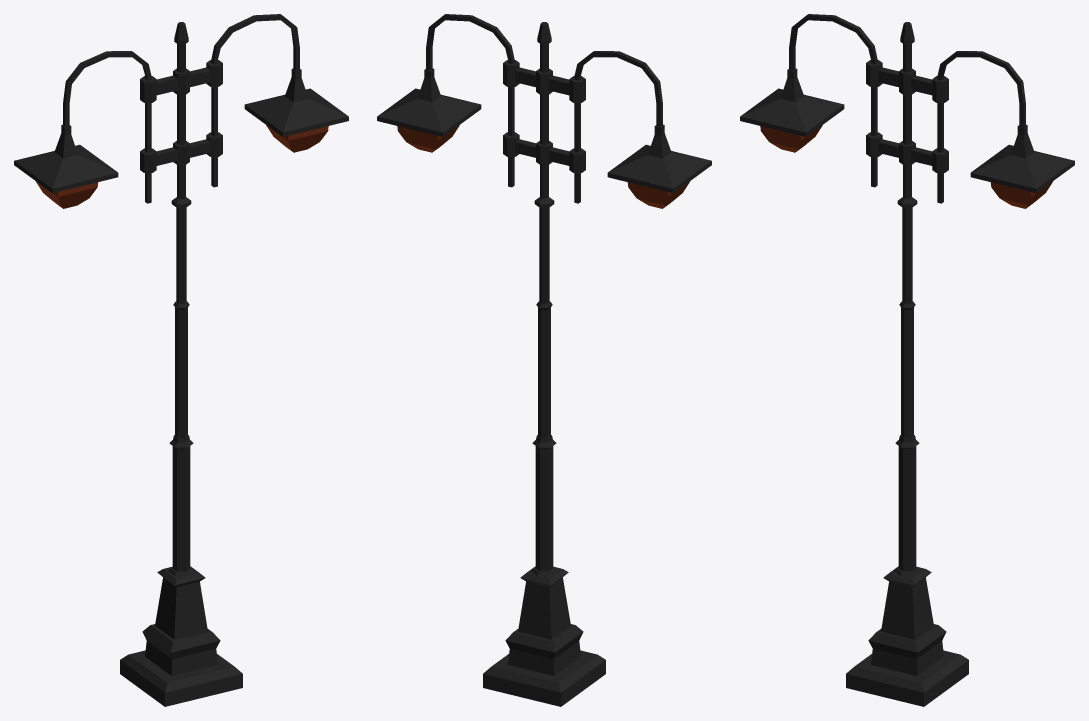
File: Mesh_StreetLight.fbx
3 views of the same model, side by side, from view 1: azimuth 30°, elevation 25°; view 2: azimuth 150°, elevation 25°; view 3: azimuth 330°, elevation 25° (orthographic).
Parts seen in each view (by area): view 1: Object002; view 2: Object002; view 3: Object002.
Part boxes in pixels (bbox=[...]): Object002: bbox=[14, 14, 348, 706]; Object002: bbox=[377, 14, 711, 706]; Object002: bbox=[740, 14, 1074, 706].
Bounding box in the file's own units: 89.55 × 190 × 23.57.
